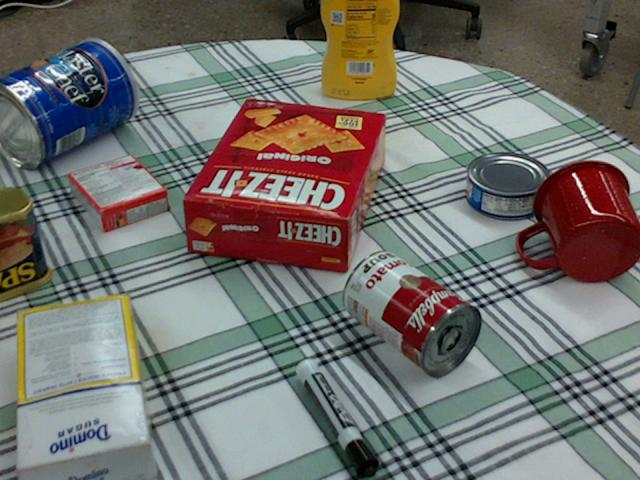cracker_box: (179, 97, 387, 272)
gelatin_box: (68, 153, 169, 233)
large_marker: (297, 359, 377, 479)
master_chef_can: (0, 38, 138, 170)
mug: (518, 159, 639, 282)
mustard_bottle: (321, 0, 399, 99)
potted_meat_can: (0, 185, 52, 300)
sugar_box: (13, 295, 153, 479)
tomato_soup_can: (342, 248, 481, 376)
tuna_fish_can: (466, 151, 550, 219)
